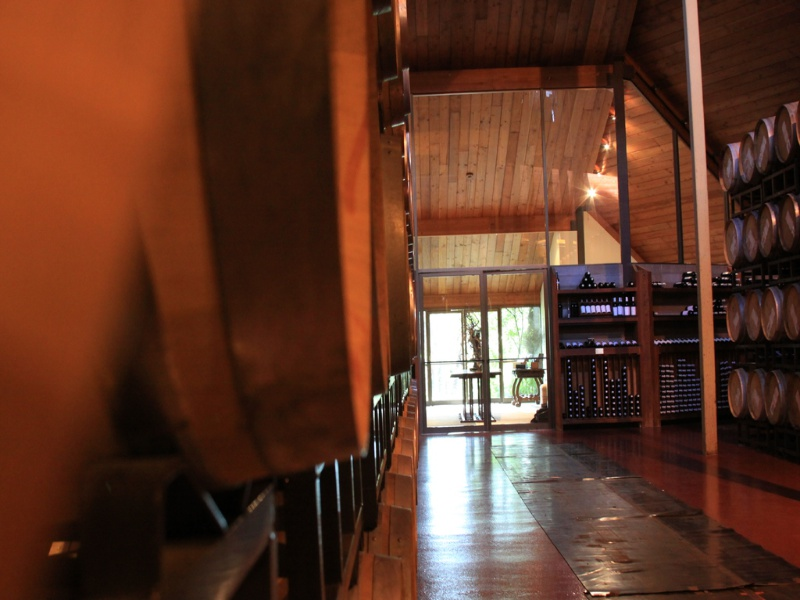wine: (647, 265, 753, 430), (559, 345, 644, 427), (552, 288, 649, 351), (552, 266, 640, 292)
